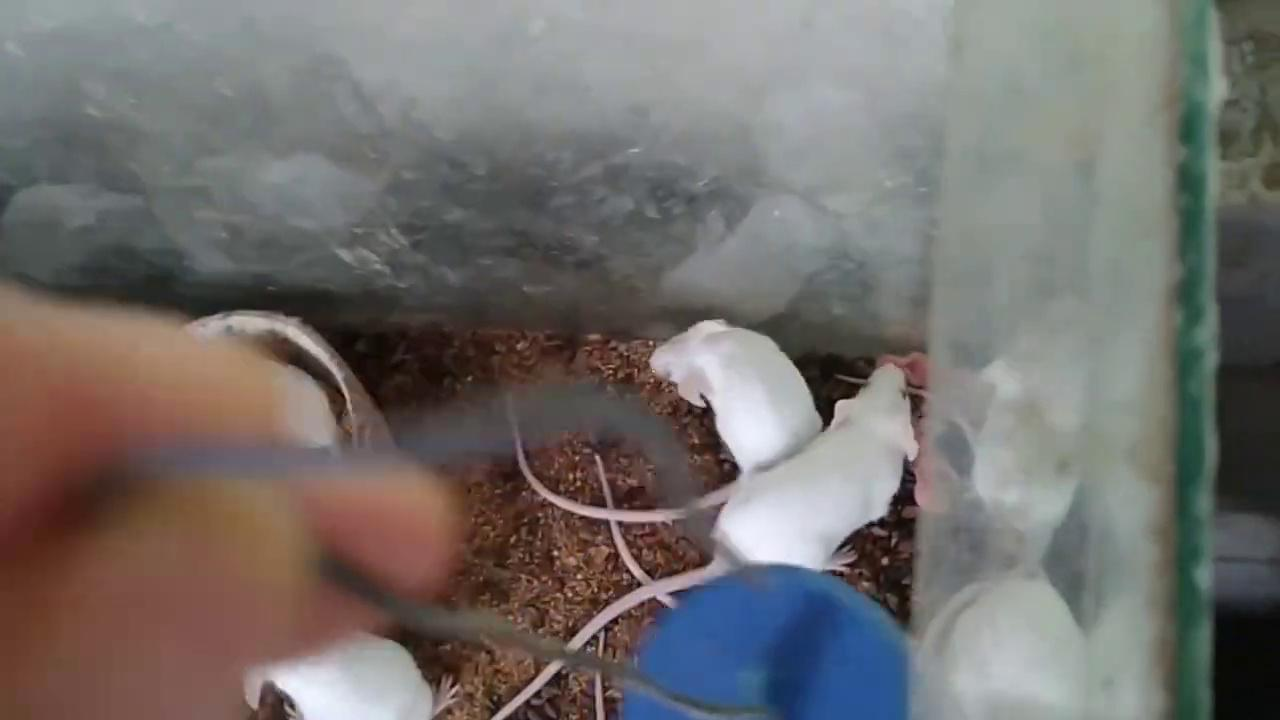rat: (494, 363, 918, 720), (650, 318, 822, 480)
